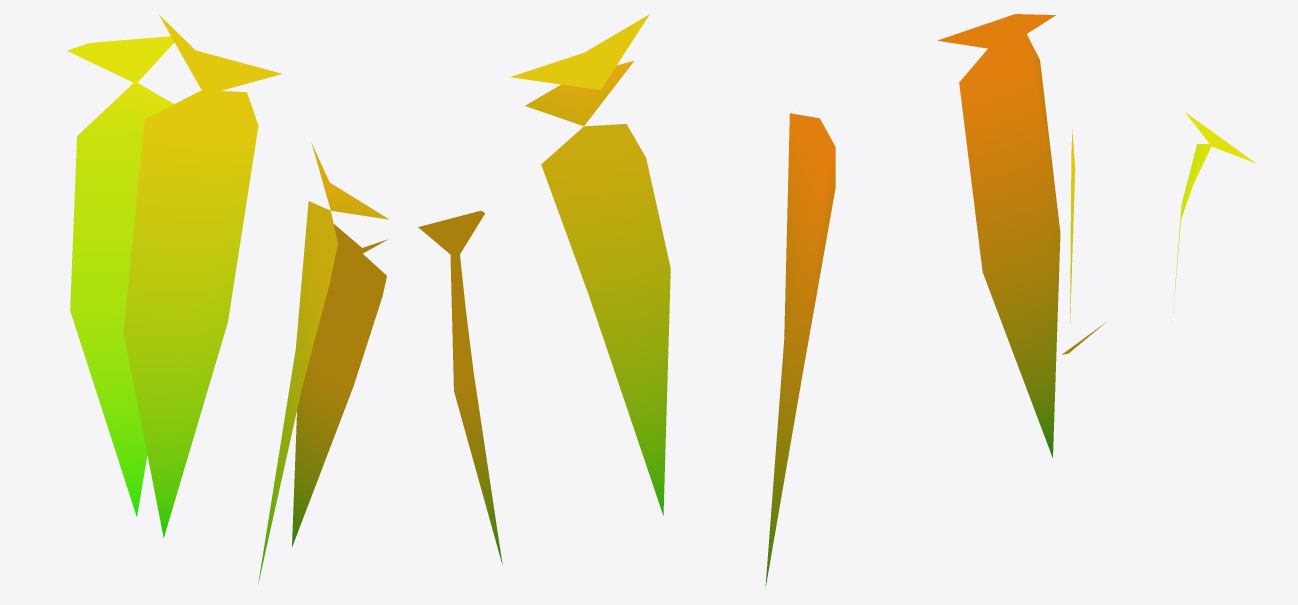
Rendered from SM_Poppy_02.glb.
3 renders of one model, left to right at view 1: azimuth 30°, elevation 25°; view 2: azimuth 150°, elevation 25°; view 3: azimuth 270°, elevation 25°, orthographic. The views are drawn at different scales.
Visible parts, largest first — view 1: SM_Poppy_02_LOD0; view 2: SM_Poppy_02_LOD0; view 3: SM_Poppy_02_LOD0.
Part boxes in pixels (x1=…): SM_Poppy_02_LOD0: x1=67, y1=15, x2=388, y2=584; SM_Poppy_02_LOD0: x1=418, y1=14, x2=835, y2=588; SM_Poppy_02_LOD0: x1=937, y1=14, x2=1255, y2=457.
Size of what is drawn, in the model's own units: 0.6317 by 0.8191 by 0.5409.
1 material, 1 textured.
